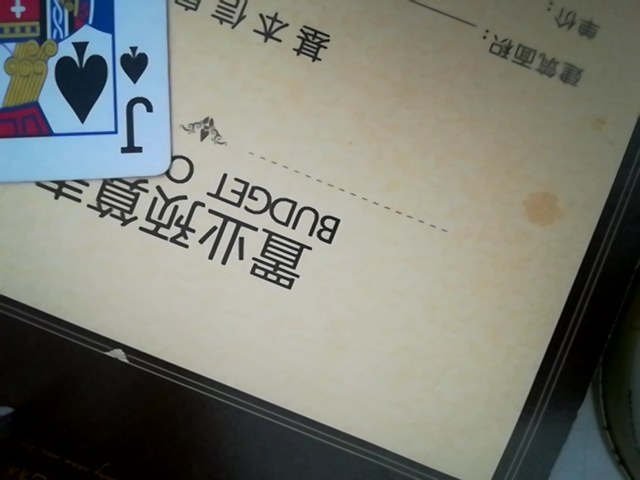ht j: (5, 0, 178, 192)
